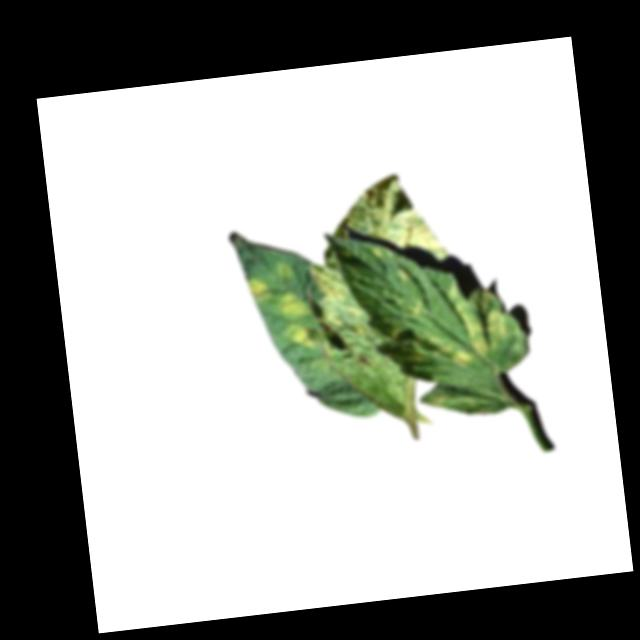Leaf_Mold: (423, 272, 515, 378), (346, 166, 450, 258), (314, 255, 376, 355), (280, 281, 318, 352), (245, 273, 273, 300)
